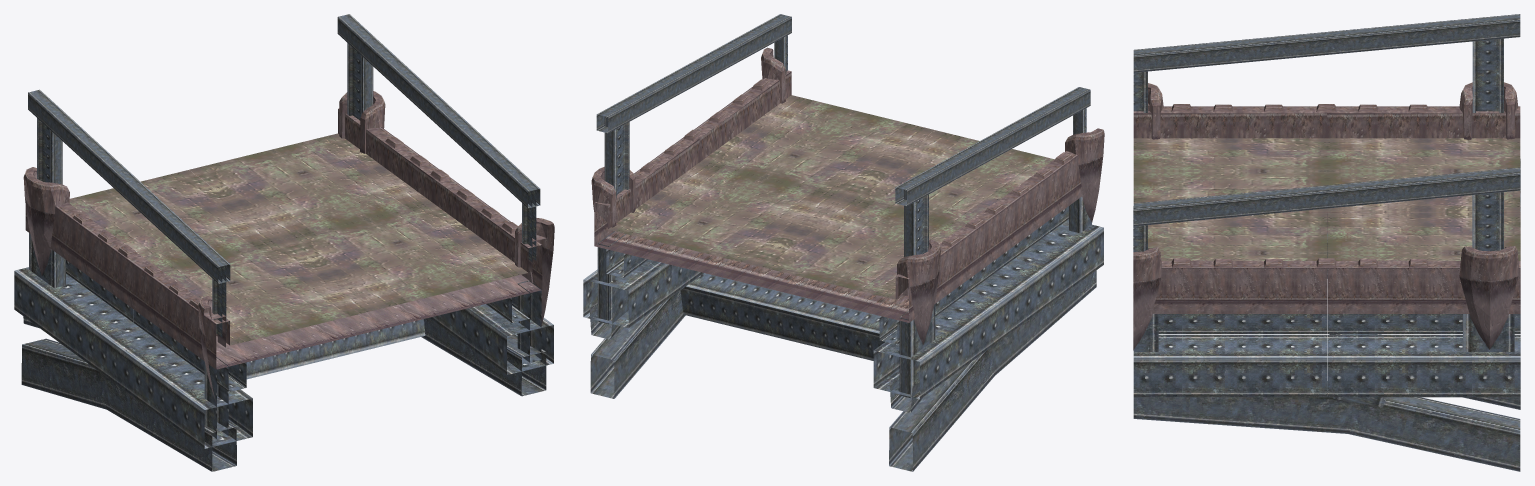
Rendered from C4SMCUSTBDG_END.obj.
3 renders of one model, left to right at view 1: azimuth 30°, elevation 25°; view 2: azimuth 150°, elevation 25°; view 3: azimuth 270°, elevation 25°, orthographic. The views are drawn at different scales.
Visible parts, largest first — view 1: Node 7, Node 21, Node 22, Node 14, Node 20, Node 19, Node 10, Node 9, Node 18, Node 8, Node 13, Node 12 (+1 smaller); view 2: Node 7, Node 22, Node 14, Node 21, Node 19, Node 20, Node 9, Node 10, Node 17, Node 13, Node 8, Node 11 (+1 smaller); view 3: Node 7, Node 21, Node 18, Node 17, Node 13, Node 22, Node 10, Node 9, Node 11, Node 8, Node 12, Node 33 (+3 smaller).
Boxes of the visible parts, left/top/right/bottom form: Node 7: left=25, top=170, right=378, bottom=369; Node 21: left=284, top=177, right=542, bottom=329; Node 22: left=189, top=108, right=439, bottom=254; Node 14: left=21, top=319, right=425, bottom=471; Node 20: left=109, top=309, right=252, bottom=448; Node 19: left=14, top=233, right=144, bottom=378; Node 10: left=337, top=14, right=540, bottom=208; Node 9: left=28, top=89, right=230, bottom=402; Node 18: left=429, top=280, right=553, bottom=374; Node 8: left=23, top=118, right=69, bottom=275; Node 13: left=421, top=318, right=546, bottom=396; Node 12: left=515, top=190, right=554, bottom=326; Node 7: left=752, top=130, right=1082, bottom=322; Node 22: left=594, top=137, right=842, bottom=284; Node 14: left=680, top=270, right=1096, bottom=471; Node 21: left=694, top=70, right=934, bottom=197; Node 19: left=873, top=265, right=1011, bottom=412; Node 20: left=977, top=196, right=1103, bottom=331; Node 9: left=895, top=87, right=1104, bottom=222; Node 10: left=596, top=14, right=791, bottom=198; Node 17: left=583, top=231, right=703, bottom=339; Node 13: left=590, top=290, right=685, bottom=398; Node 8: left=897, top=189, right=940, bottom=344; Node 11: left=591, top=166, right=635, bottom=241; Node 7: left=1133, top=106, right=1520, bottom=232; Node 21: left=1148, top=212, right=1326, bottom=313; Node 18: left=1133, top=314, right=1326, bottom=397; Node 17: left=1327, top=314, right=1520, bottom=409; Node 13: left=1133, top=381, right=1520, bottom=471; Node 22: left=1327, top=212, right=1520, bottom=313; Node 10: left=1133, top=167, right=1520, bottom=250; Node 9: left=1133, top=14, right=1520, bottom=139; Node 11: left=1459, top=246, right=1518, bottom=349; Node 8: left=1459, top=38, right=1518, bottom=139; Node 12: left=1133, top=206, right=1161, bottom=350; Node 33: left=1316, top=258, right=1428, bottom=268.
Bounding box in the file's own units: 34.66 × 27.38 × 32.51.
25 materials, 25 textured.
